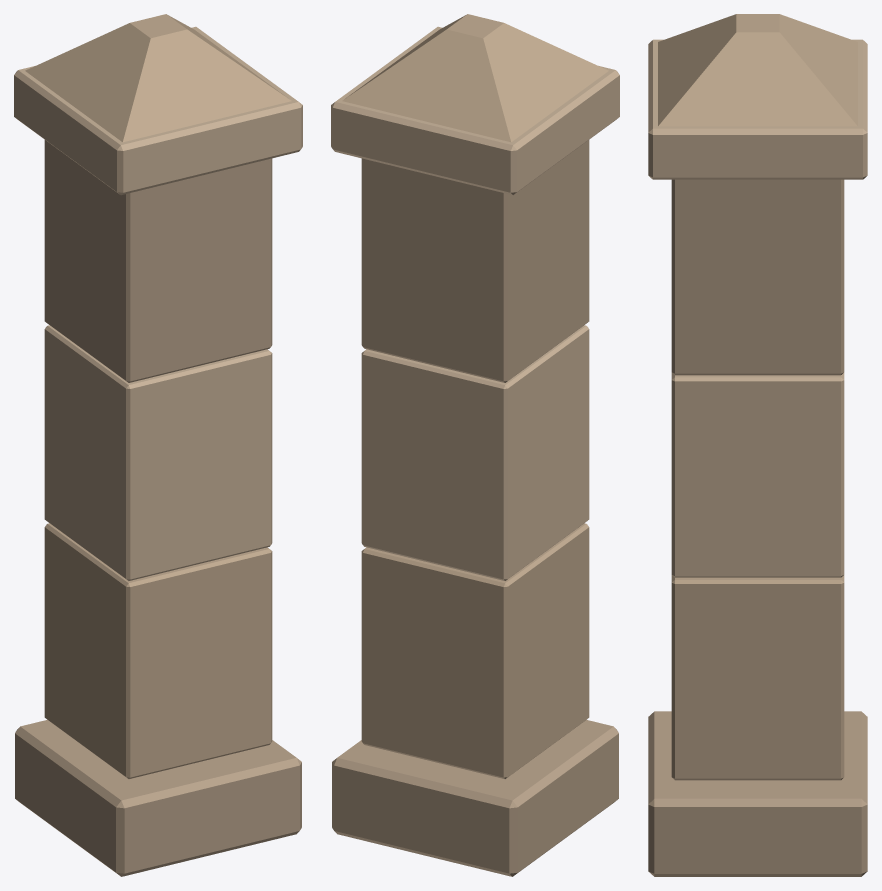
Rendered from railing_post.glb.
The picture shows the model from 3 angles, left to right: view 1: azimuth 30°, elevation 25°; view 2: azimuth 150°, elevation 25°; view 3: azimuth 270°, elevation 25°; orthographic projection. The views are drawn at different scales.
Visible parts, largest first — view 1: body; view 2: body; view 3: body.
Boxes of the visible parts, x1=… form: body: x1=14, y1=14, x2=302, y2=876; body: x1=331, y1=14, x2=619, y2=876; body: x1=648, y1=14, x2=867, y2=876.
Size of the model in its own units: 0.28 by 1.14 by 0.28.
